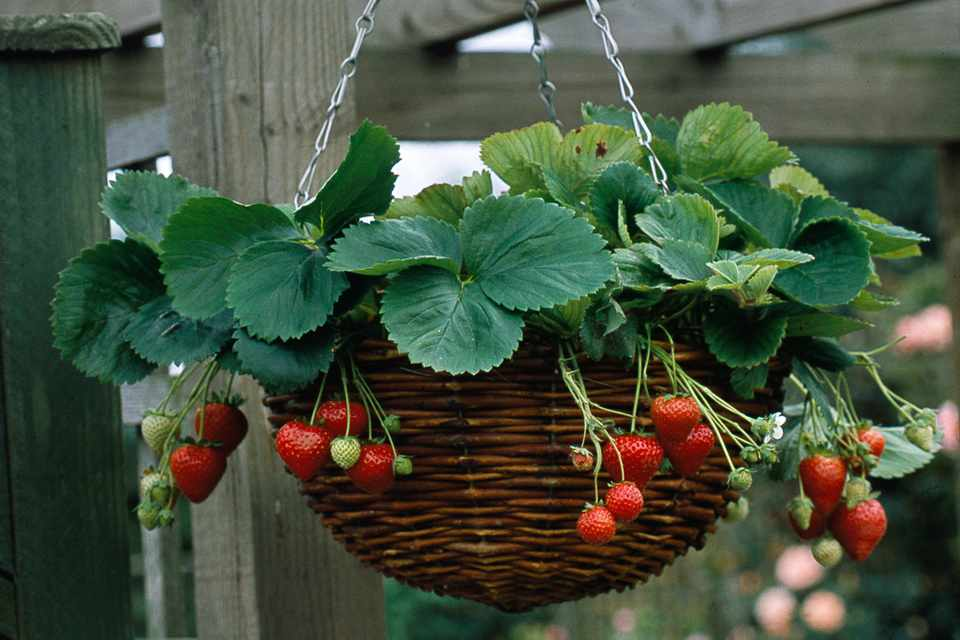ripe_strawberry: (830, 494, 890, 563), (277, 418, 335, 483), (604, 432, 664, 492), (171, 443, 229, 504), (799, 450, 849, 514), (195, 401, 251, 456), (346, 441, 401, 497), (666, 423, 717, 477), (651, 394, 701, 444), (316, 400, 371, 439), (841, 426, 885, 474), (576, 505, 619, 547), (604, 481, 644, 522)
unripe_strawberry: (140, 412, 182, 456), (140, 472, 181, 509), (813, 536, 844, 570), (331, 436, 362, 470), (905, 420, 935, 455), (789, 497, 814, 532), (152, 482, 177, 507), (727, 468, 754, 491), (138, 506, 160, 531)
